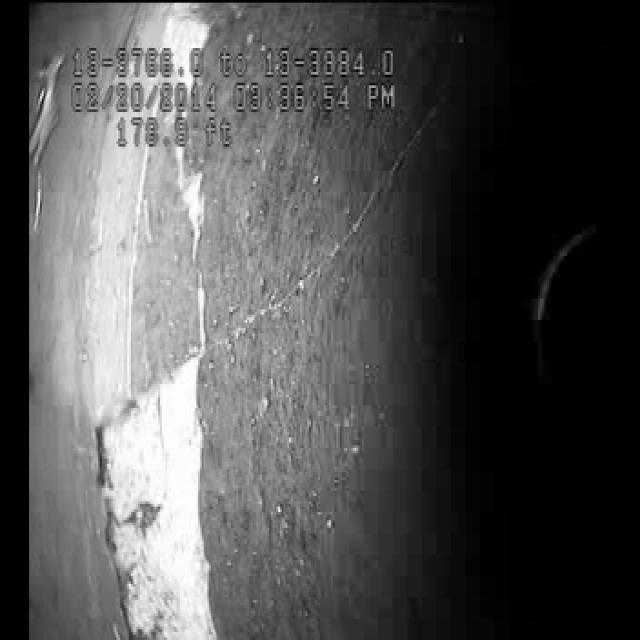Crack: (226, 154, 393, 356)
